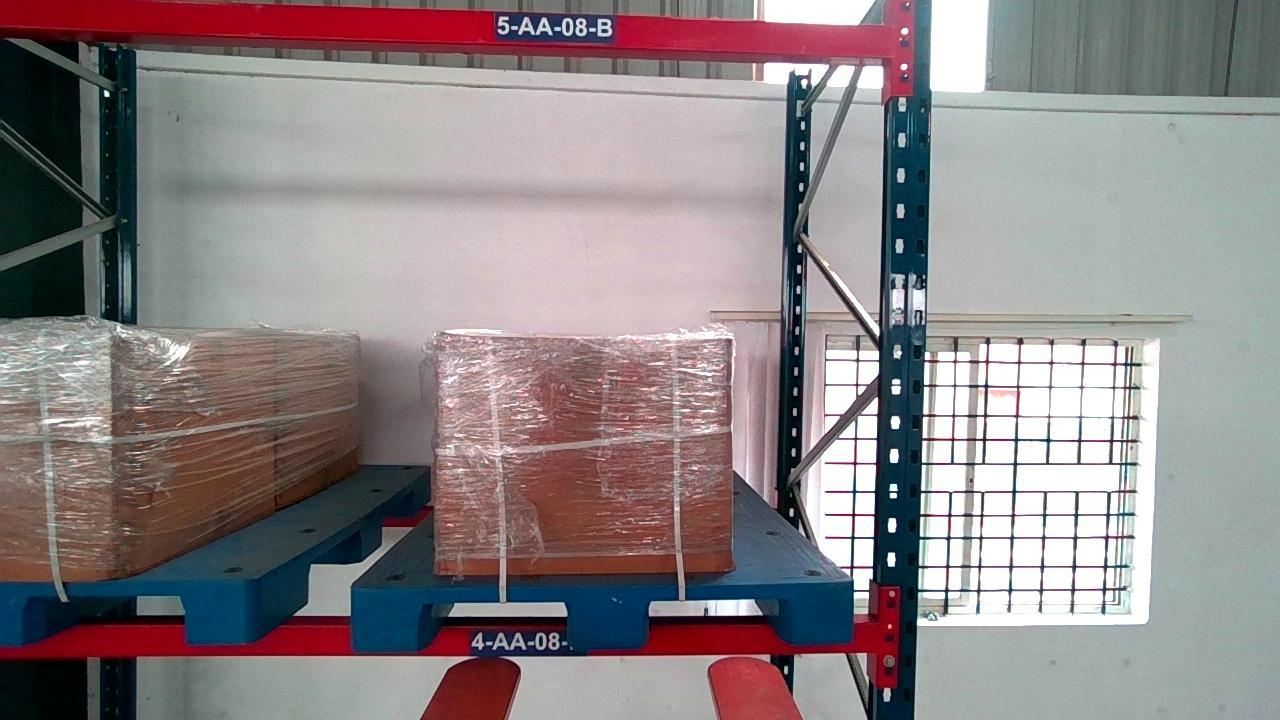h_rack: (0, 0, 896, 59), (1, 622, 879, 655)
small_pallet: (351, 581, 849, 646)
